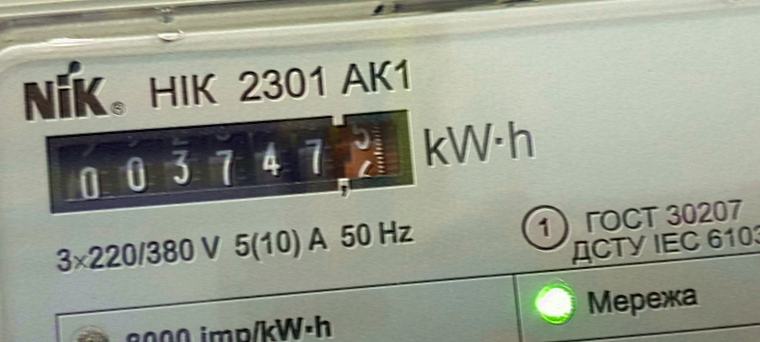0: (124, 152, 148, 192), (77, 163, 102, 199)
3: (170, 146, 192, 185)
4: (259, 137, 282, 178)
5: (351, 120, 373, 150)
6: (354, 156, 374, 178)
7: (302, 133, 328, 175), (214, 145, 237, 186)
screen: (34, 91, 431, 231)
